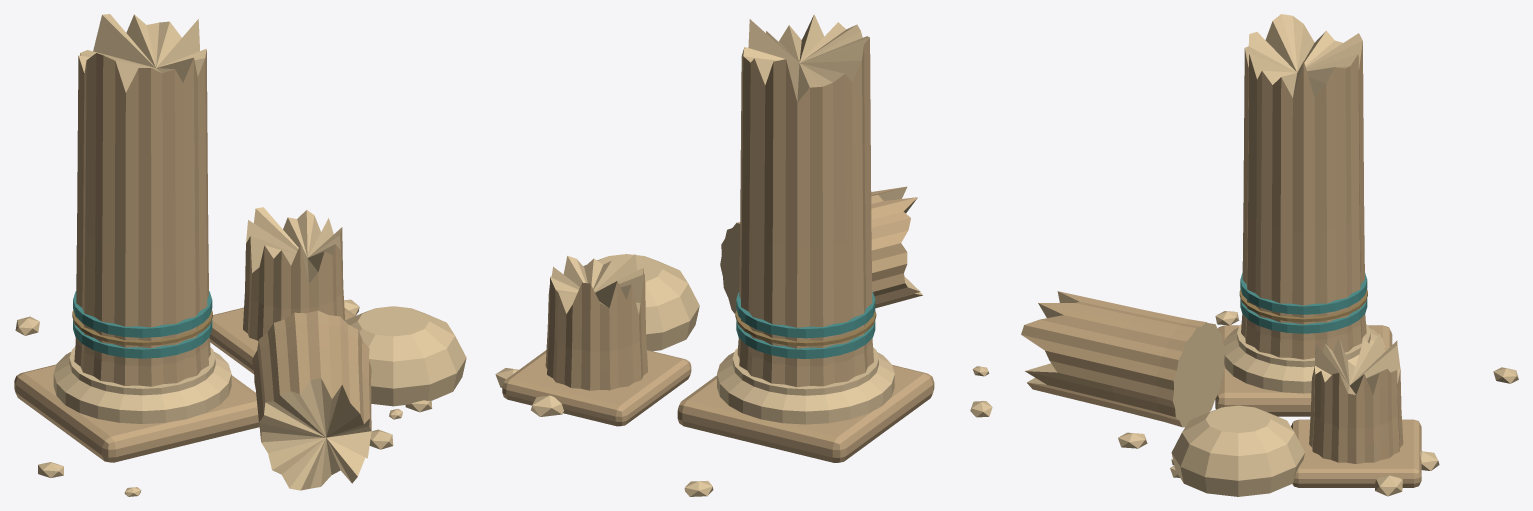
The model's file is BrokenColumns.fbx.
The picture shows the model from 3 angles, left to right: view 1: azimuth 30°, elevation 25°; view 2: azimuth 150°, elevation 25°; view 3: azimuth 270°, elevation 25°; orthographic projection. The views are drawn at different scales.
Visible parts, largest first — view 1: BrokenColumns; view 2: BrokenColumns; view 3: BrokenColumns.
Boxes of the visible parts, bbox=[...] form: BrokenColumns: bbox=[14, 14, 466, 496]; BrokenColumns: bbox=[495, 14, 992, 496]; BrokenColumns: bbox=[1021, 14, 1518, 496].
Bounding box in the file's own units: 340 × 294 × 380.
